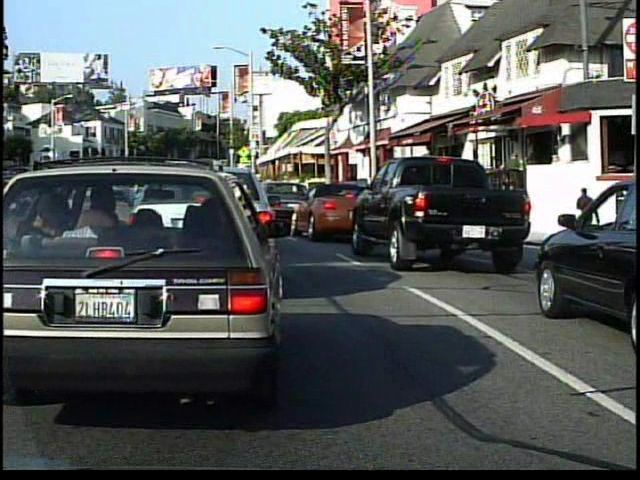person: (499, 149, 524, 201)
